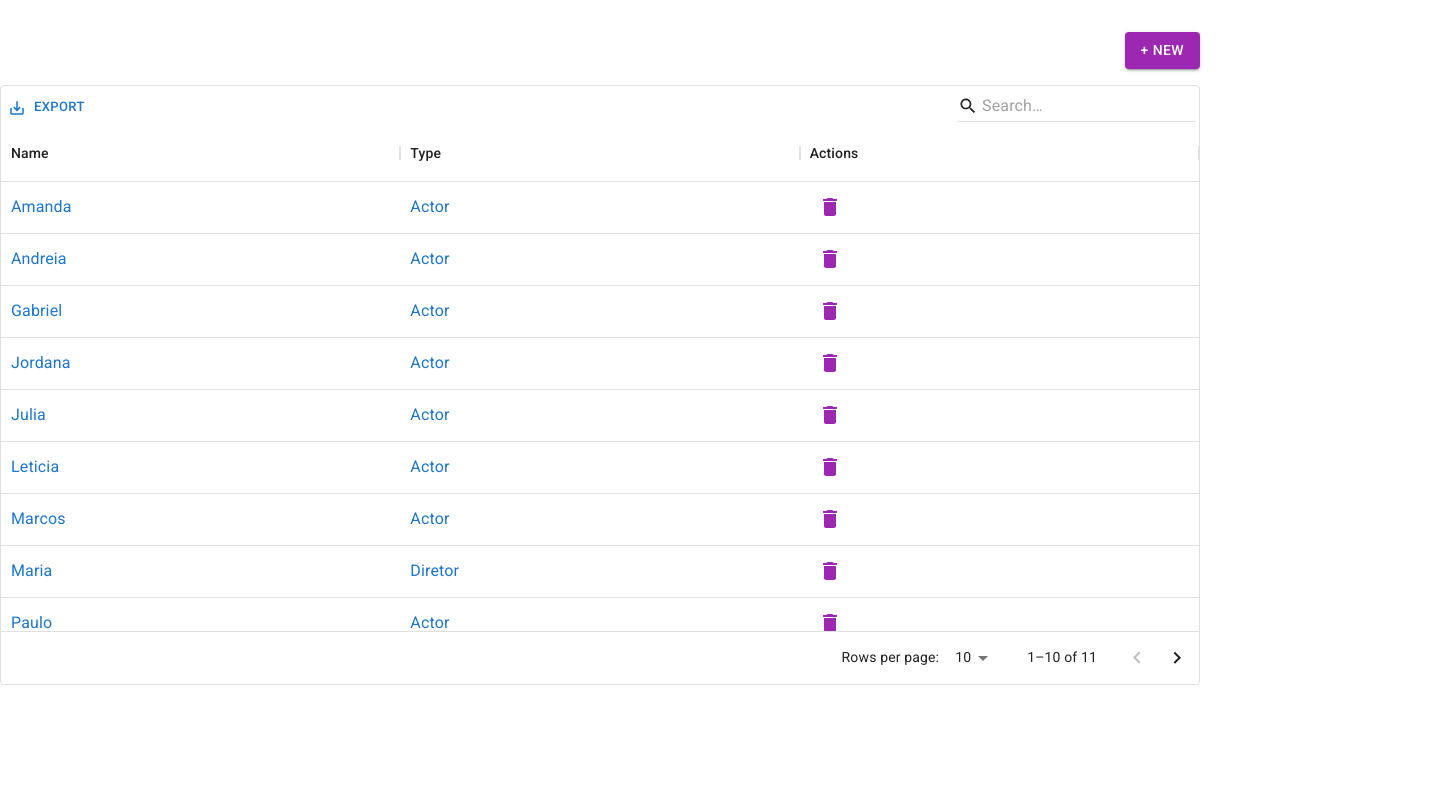
Test: List cast member › should handle delete cast member error
Expected: the text "Amanda" is shown, 11,195 -> 72,219
Click the button with test id "delete-button" in the row of "Amanda" at (830, 207), box 810,187 -> 850,227
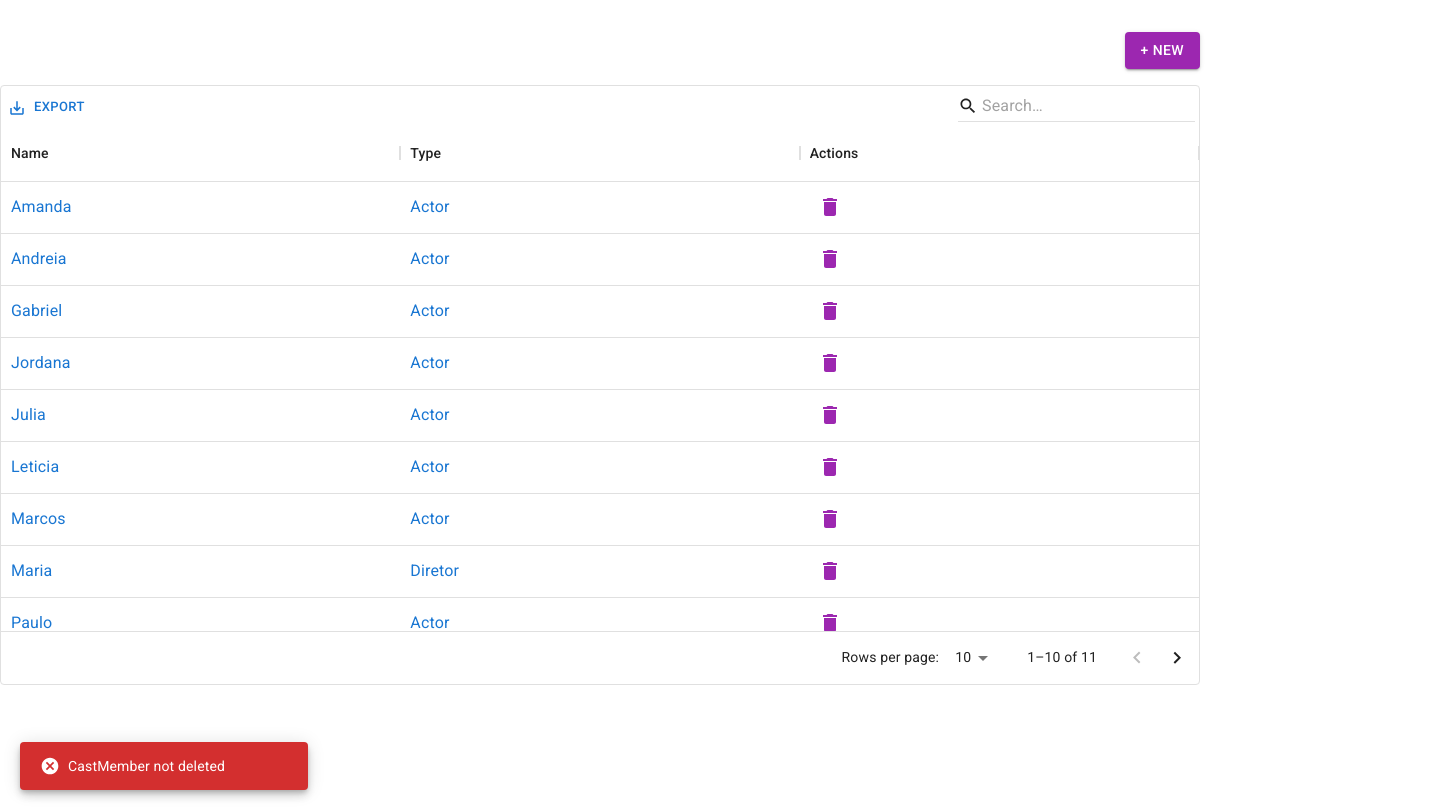
Expected: the text "CastMember not deleted" is shown, 40,756 -> 225,776
